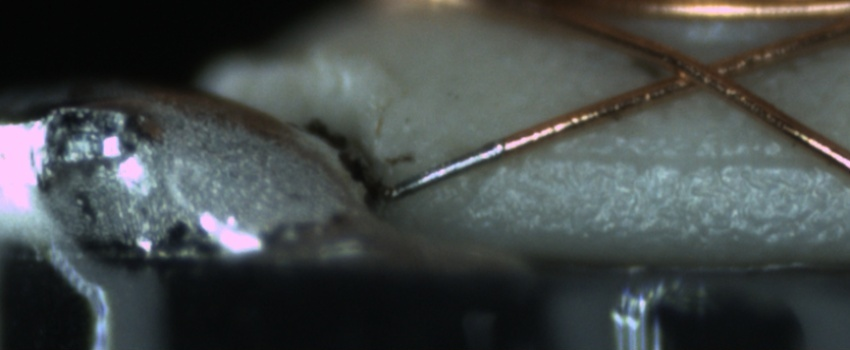CL: (638, 47, 763, 99)
DL: (512, 129, 830, 193)
TS: (370, 140, 506, 201)
